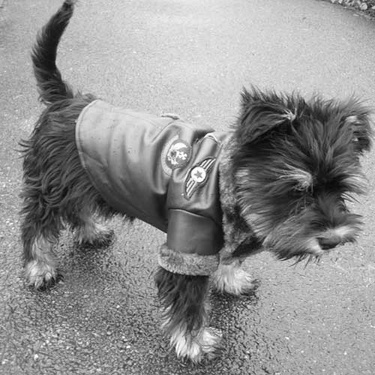dog: (14, 1, 370, 369)
